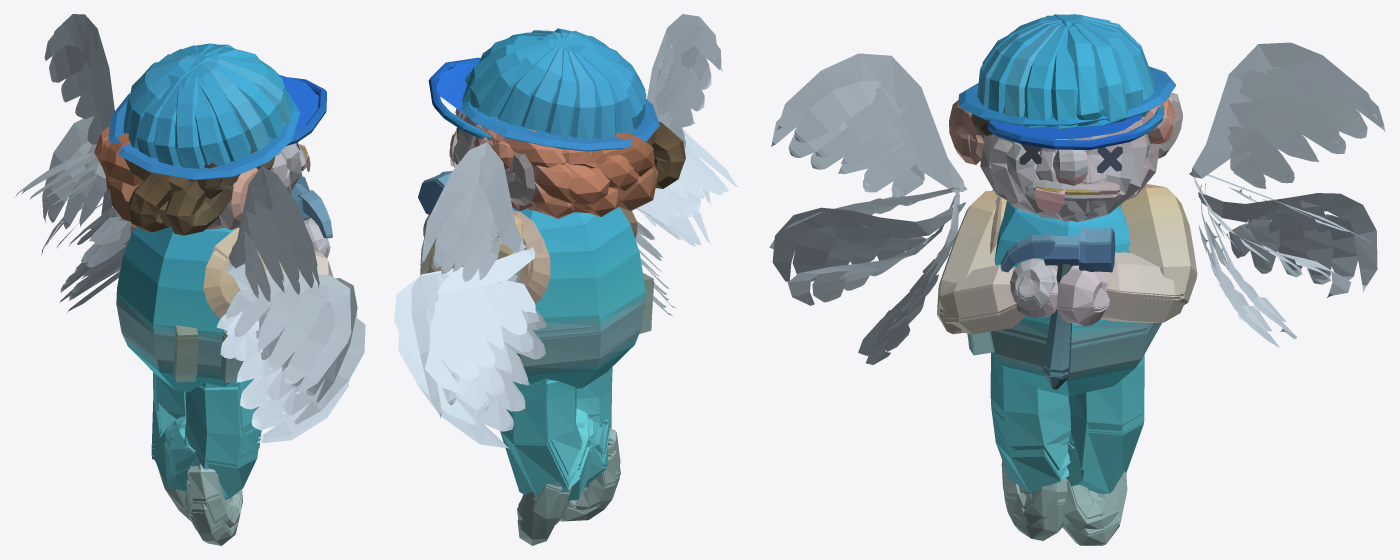
File: worker_dead.fbx
3 views of the same model, side by side, from view 1: azimuth 30°, elevation 25°; view 2: azimuth 150°, elevation 25°; view 3: azimuth 270°, elevation 25° (orthographic). The views are drawn at different scales.
Parts seen in each view (by area): view 1: Dead; view 2: Dead; view 3: Dead.
Boxes of the visible parts, box(x1,y1,x2,y2) form: Dead: box(15, 14, 365, 545); Dead: box(394, 14, 739, 545); Dead: box(769, 14, 1385, 545).
Bounding box in the file's own units: 1.15 × 2.39 × 2.56.
